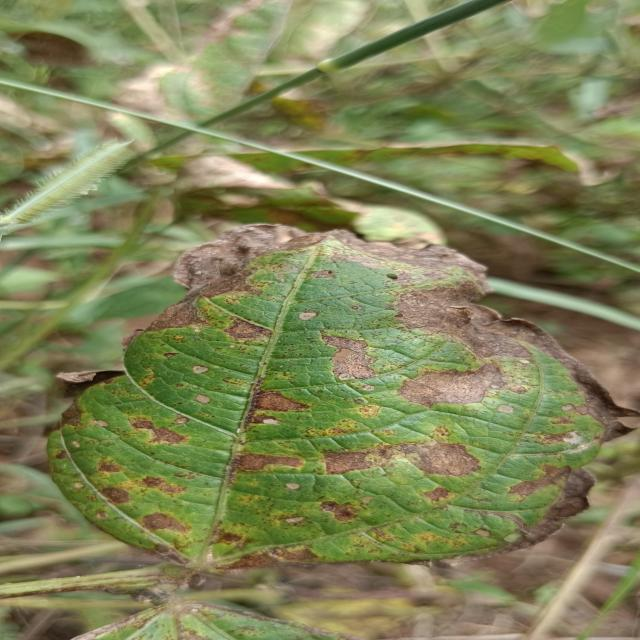Black gram_leaf spot: (35, 210, 632, 572)
